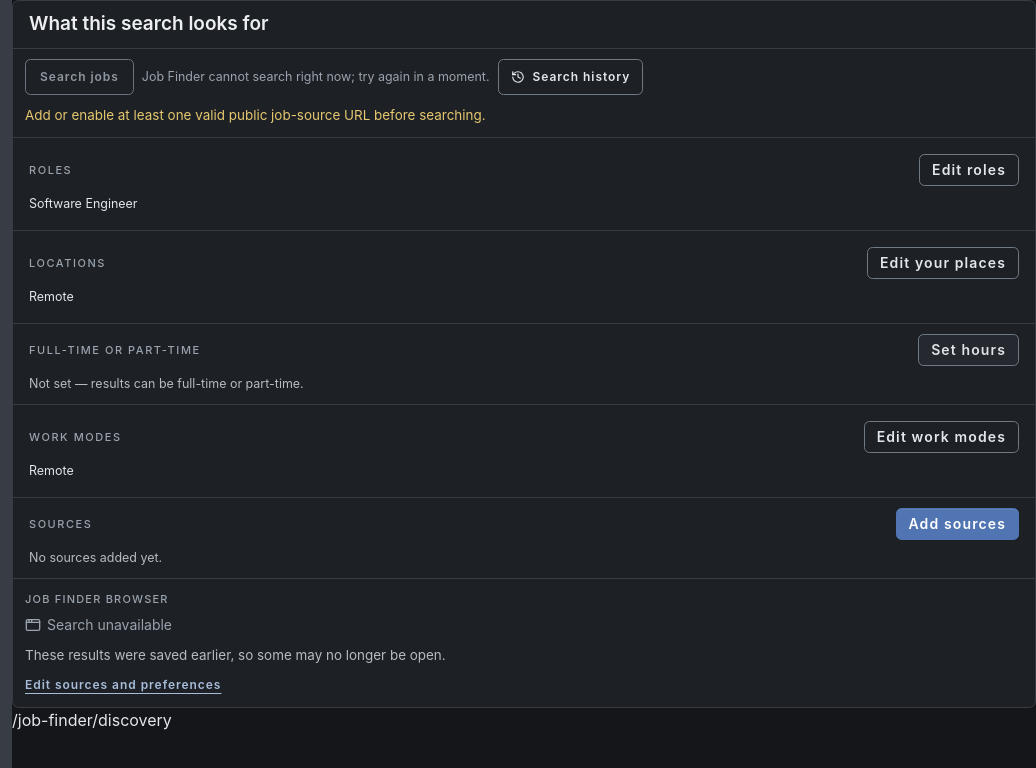
Test: DiscoveryFiltersPanel › makes the current-search details an independent wheel and keyboard scroll region
This screenshot has width=1036, height=768.
Expected: the number of buttons "Search jobs" is 1, [25,59,134,95]
Expected: the text "Search unavailable" is shown, [25,616,172,633]
Click the button "Edit your places". click: (943, 263)
box: [867,247,1019,279]
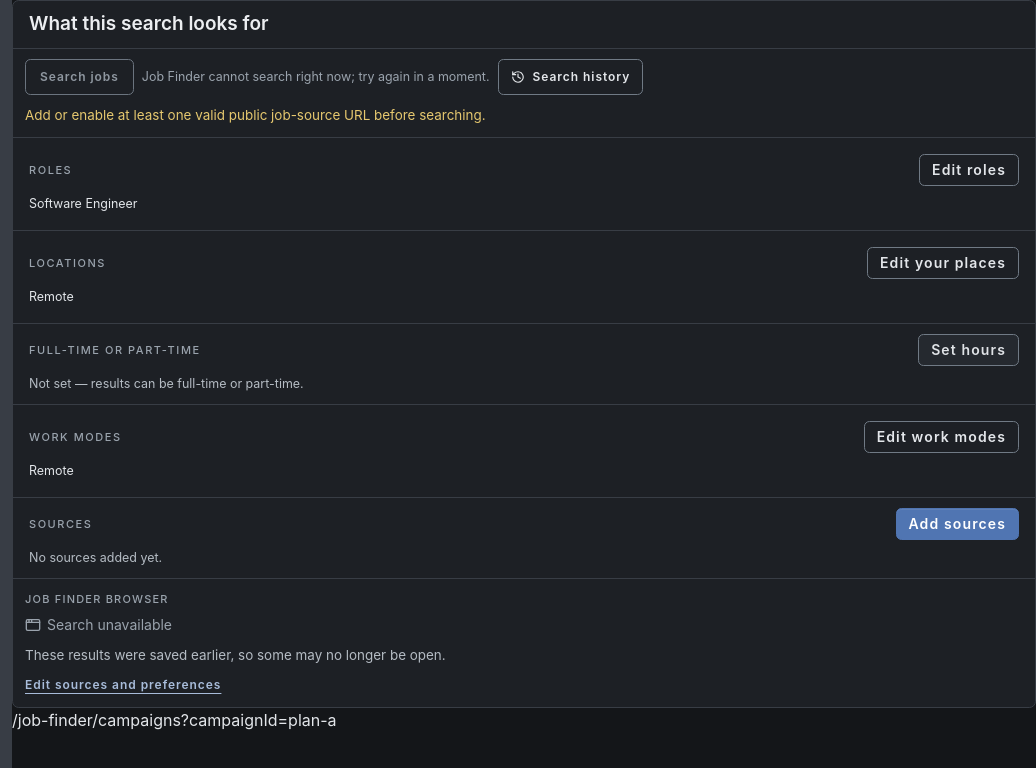
Result: the text "/job-finder/campaigns?campaignId=plan-a" is shown at [12,710,336,730]
